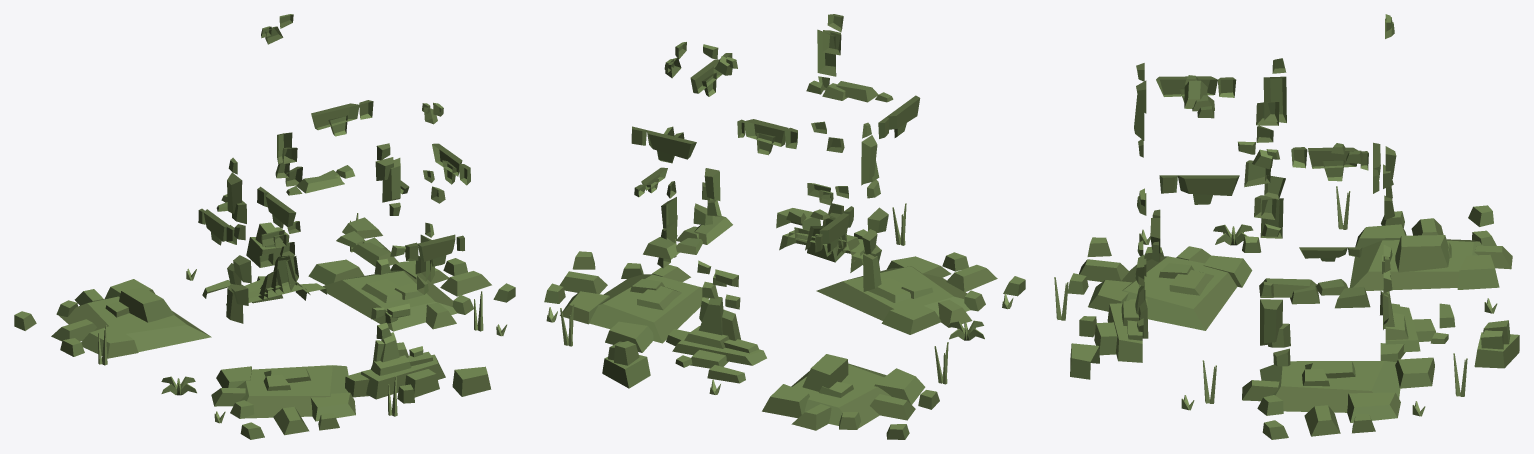
The model's file is SA_Bld_Building_Plants_03.gltf.
3 views of the same model, side by side, from view 1: azimuth 30°, elevation 25°; view 2: azimuth 150°, elevation 25°; view 3: azimuth 270°, elevation 25° (orthographic). The views are drawn at different scales.
Parts seen in each view (by area): view 1: SA_Bld_Building_Plants_03; view 2: SA_Bld_Building_Plants_03; view 3: SA_Bld_Building_Plants_03.
Part boxes in pixels (left/top/right/bottom): SA_Bld_Building_Plants_03: left=14, top=14, right=515, bottom=439; SA_Bld_Building_Plants_03: left=544, top=14, right=1025, bottom=439; SA_Bld_Building_Plants_03: left=1054, top=14, right=1519, bottom=439.
Bounding box in the file's own units: 28.09 × 18.95 × 24.68.
Materials: 1 (1 with a texture image).
